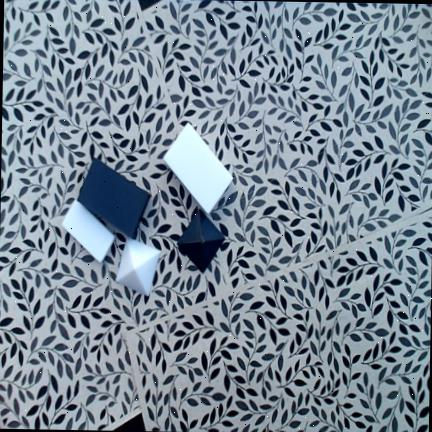Paralelepipedo: (162, 121, 233, 214), (79, 158, 150, 238), (60, 198, 115, 263)
Piramide: (177, 208, 225, 274), (115, 237, 160, 296)
